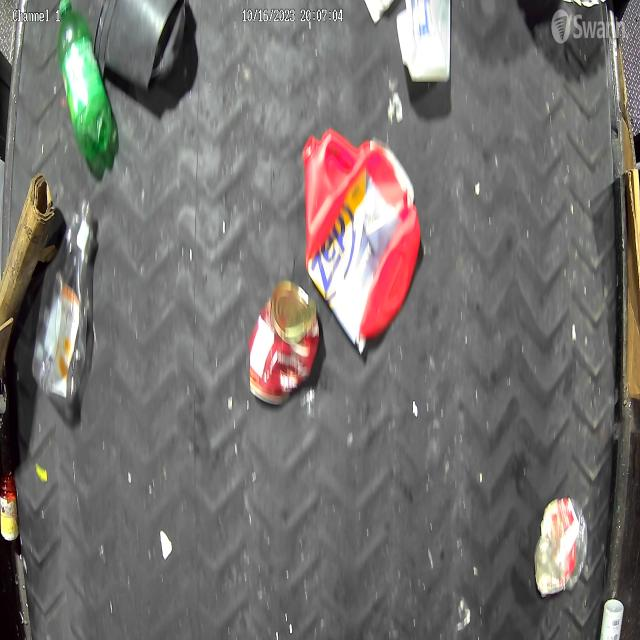can: (247, 279, 321, 409)
non_white_jug: (301, 126, 421, 347)
plastic_bottle: (30, 195, 95, 404), (57, 0, 115, 162)
